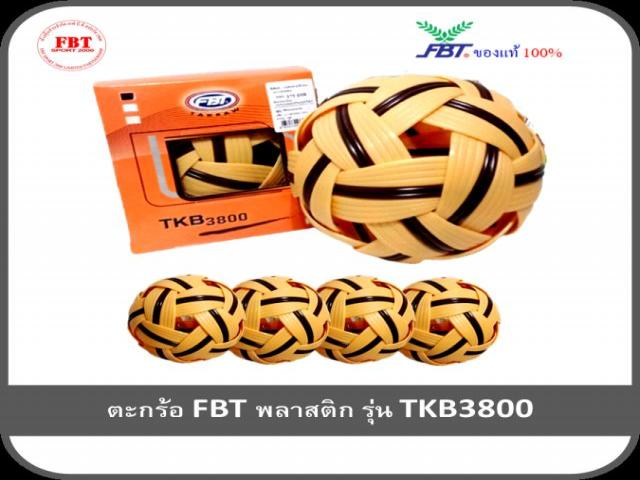round ball: (291, 74, 549, 266), (394, 268, 502, 372), (128, 276, 246, 365), (311, 272, 417, 370), (232, 274, 337, 366)
